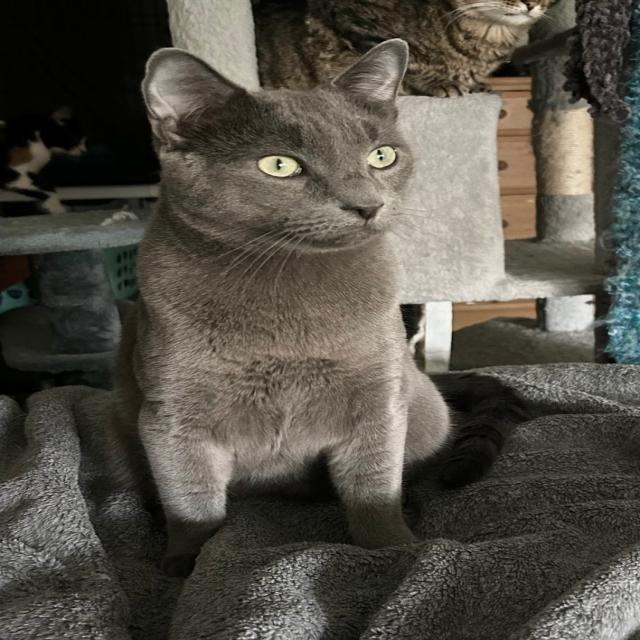russian_blue_cat: (121, 34, 444, 280)
